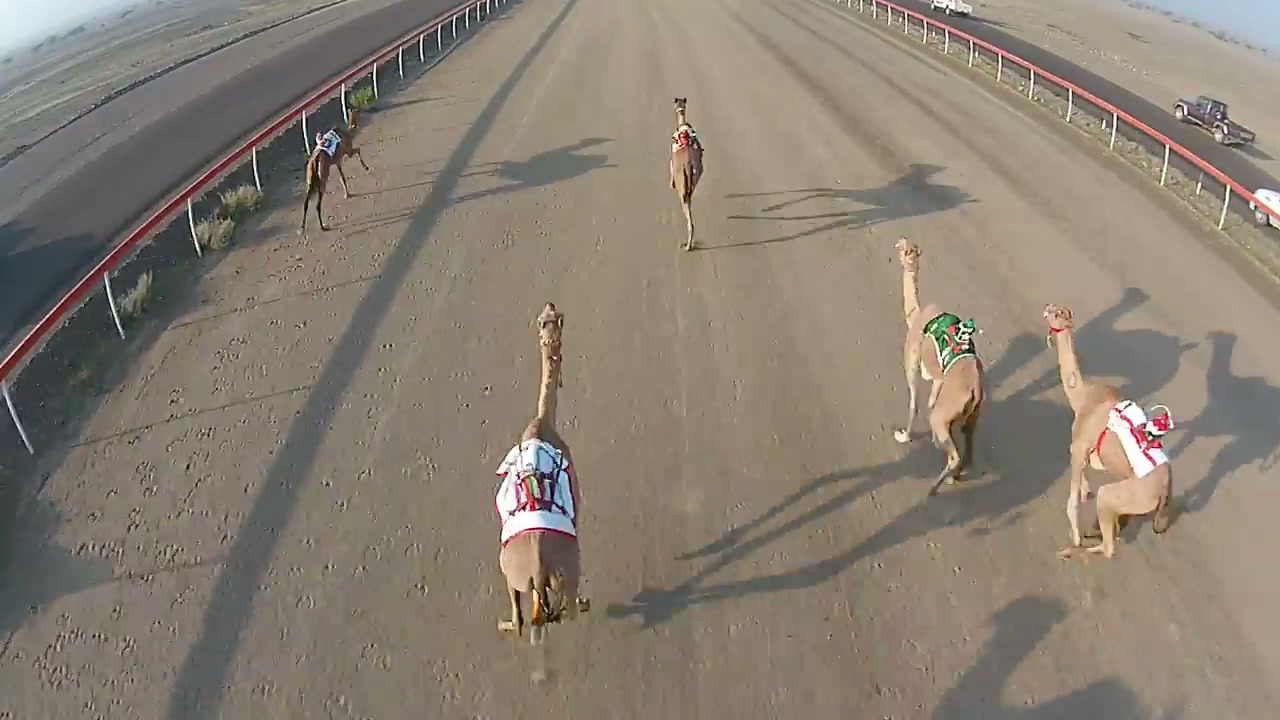animal_footprint: (40, 257, 326, 709)
